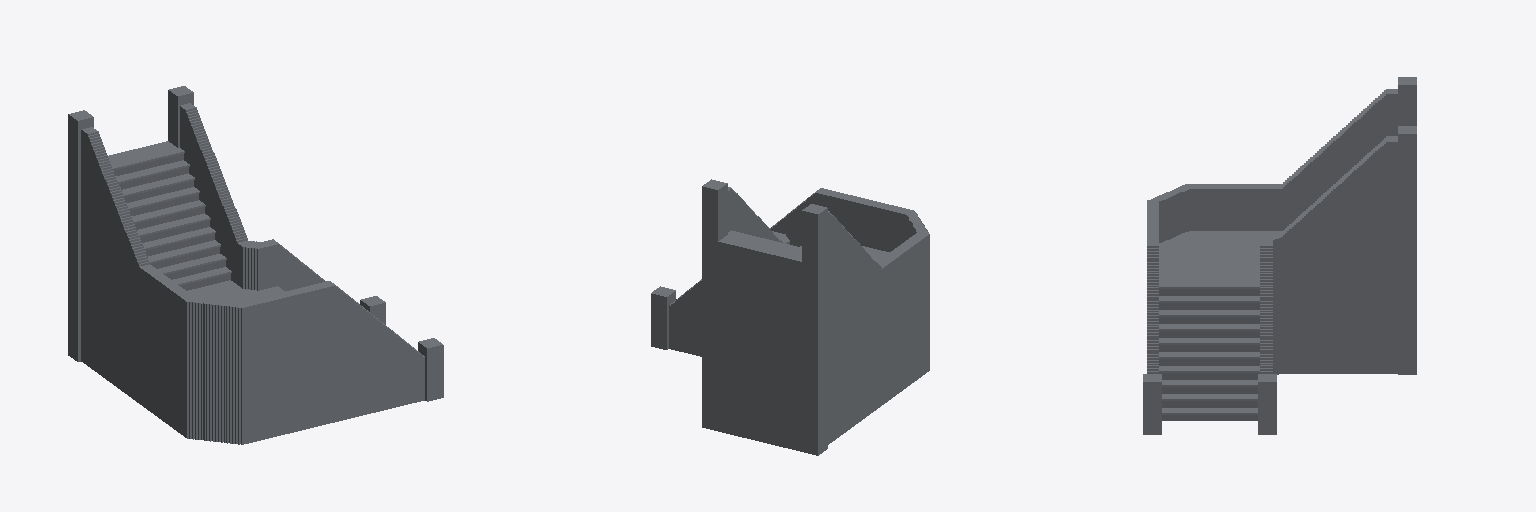
3 renders of one model, left to right at view 1: azimuth 30°, elevation 25°; view 2: azimuth 150°, elevation 25°; view 3: azimuth 270°, elevation 25°, orthographic.
Parts seen in each view (by area): view 1: object 1; view 2: object 1; view 3: object 1.
Part boxes in pixels (left/top/right/bottom): object 1: left=68, top=86, right=443, bottom=444; object 1: left=651, top=179, right=929, bottom=455; object 1: left=1143, top=77, right=1416, bottom=434.
Bounding box in the file's own units: 13.1 × 12.7 × 13.1.
1 materials, 1 textured.